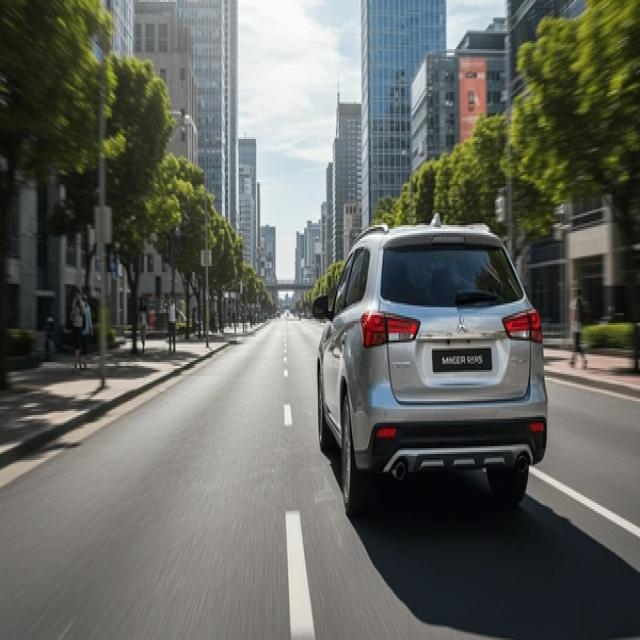mitsubishi: (455, 312, 469, 336)
